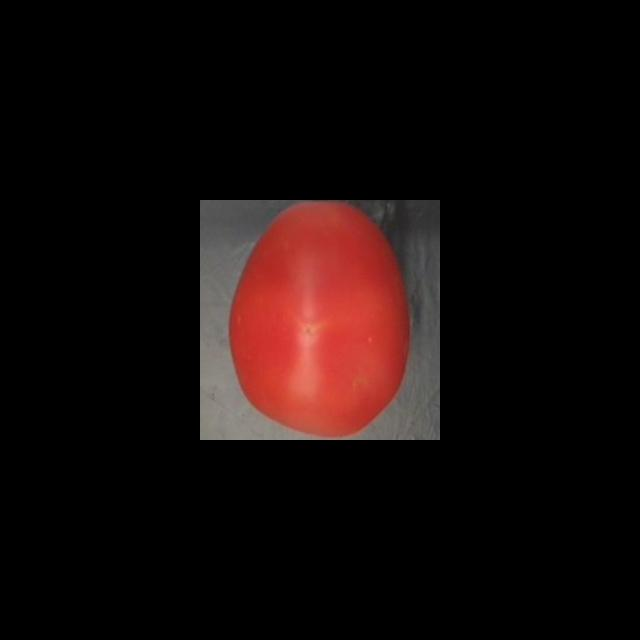tomato: (223, 200, 417, 440)
